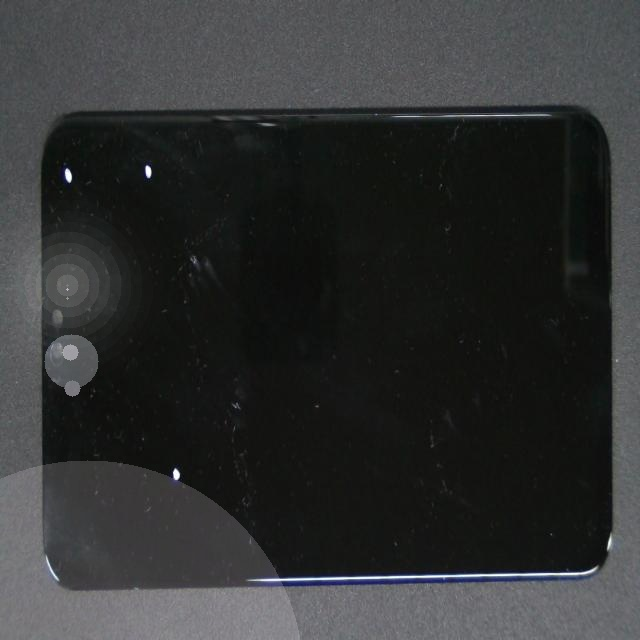stain: (93, 209, 256, 640), (88, 52, 217, 224), (48, 42, 99, 218)
